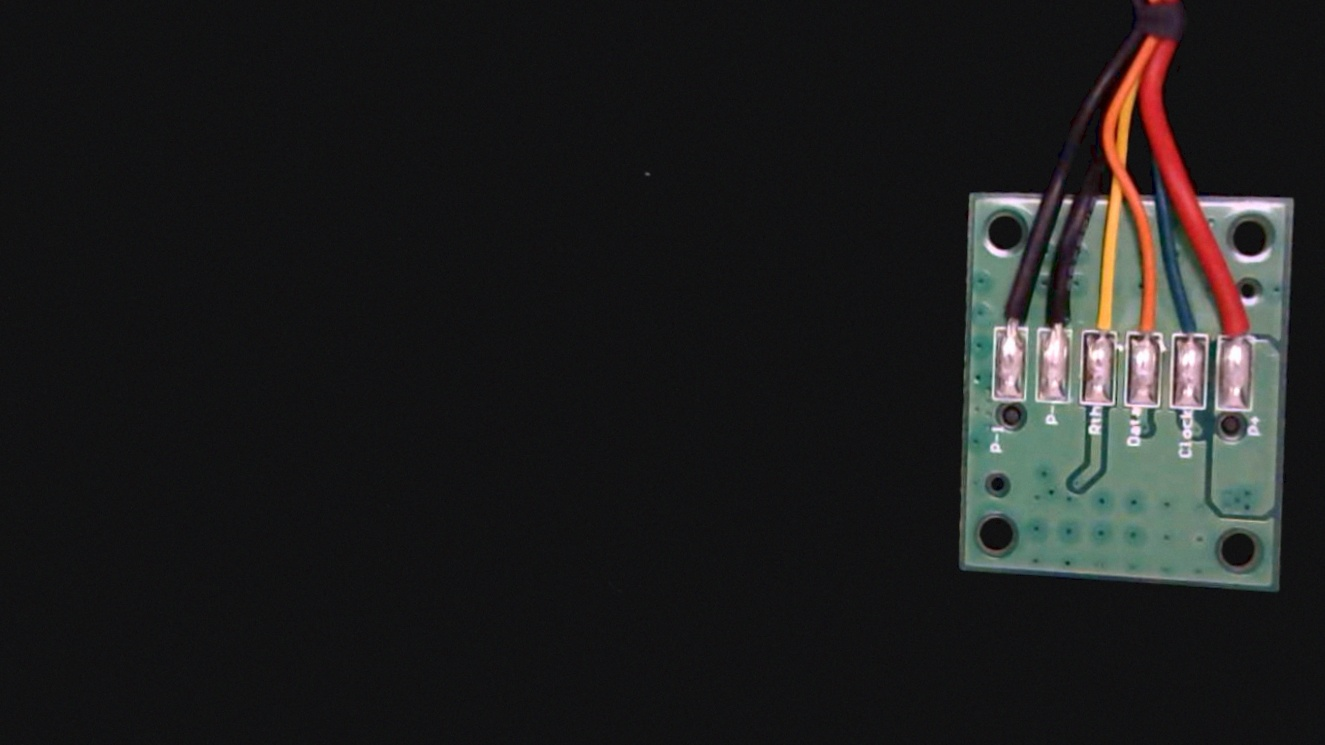Black: (1037, 273, 1077, 349)
Black1: (992, 267, 1034, 347)
Green: (1171, 286, 1214, 356)
Orange: (1129, 281, 1169, 354)
Red: (1217, 273, 1262, 357)
Yellow: (1079, 276, 1122, 350)
